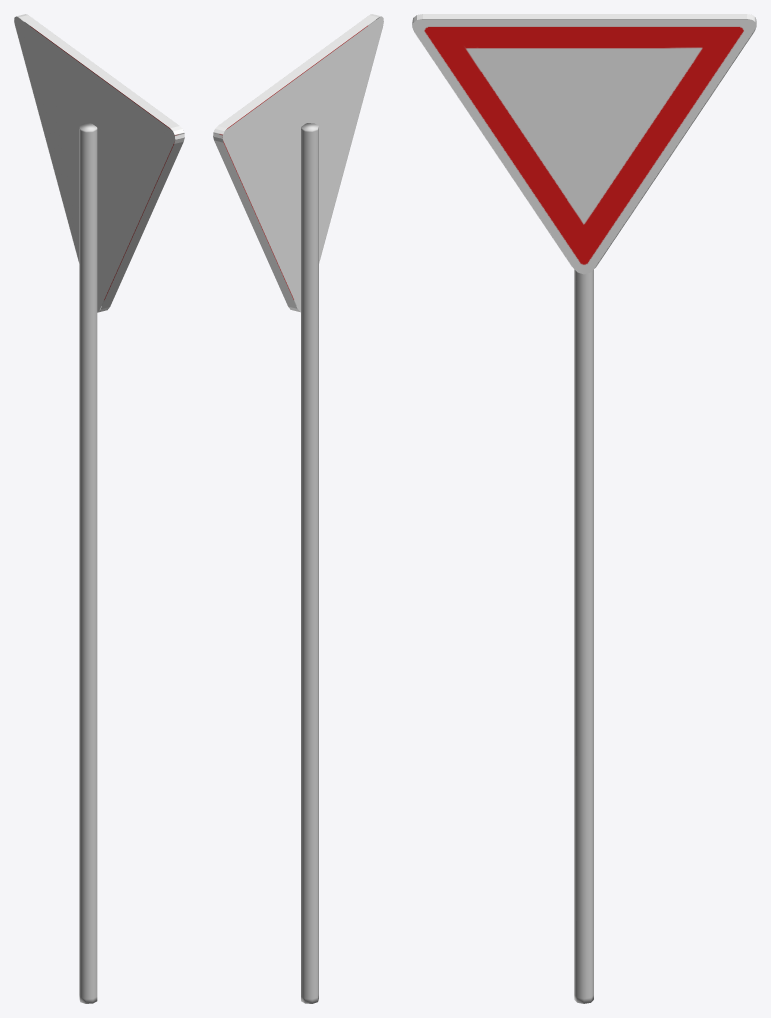
The model's file is sign_yield.glb.
3 renders of one model, left to right at view 1: azimuth 30°, elevation 25°; view 2: azimuth 150°, elevation 25°; view 3: azimuth 270°, elevation 25°, orthographic. The views are drawn at different scales.
Parts seen in each view (by area): view 1: yield, pole; view 2: yield, pole; view 3: yield, pole.
Part boxes in pixels (x1=…): yield: x1=14, y1=14, x2=184, y2=312; pole: x1=79, y1=123, x2=97, y2=1003; yield: x1=213, y1=14, x2=383, y2=312; pole: x1=301, y1=123, x2=318, y2=1003; yield: x1=412, y1=14, x2=756, y2=274; pole: x1=574, y1=269, x2=593, y2=1003.
Bounding box in the file's own units: 0.075 × 2.75 × 0.8665.
2 materials, 1 textured.
